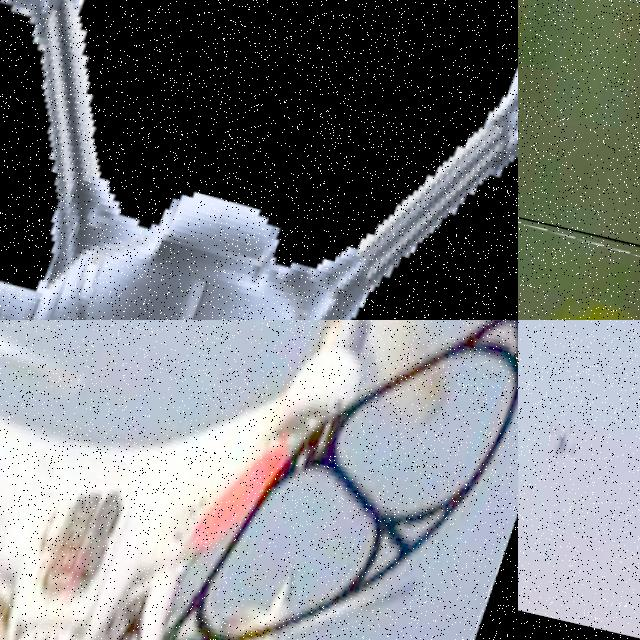drone: (0, 0, 518, 320), (0, 320, 518, 640), (518, 157, 640, 320)
